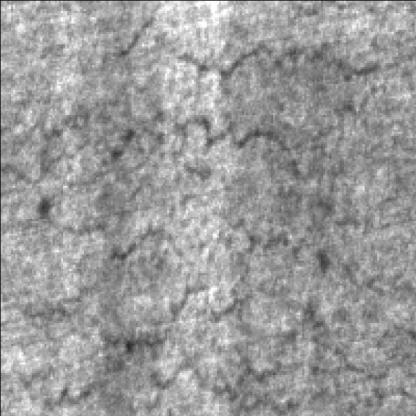crazing: (160, 44, 416, 262), (25, 270, 414, 412), (6, 92, 218, 262)
